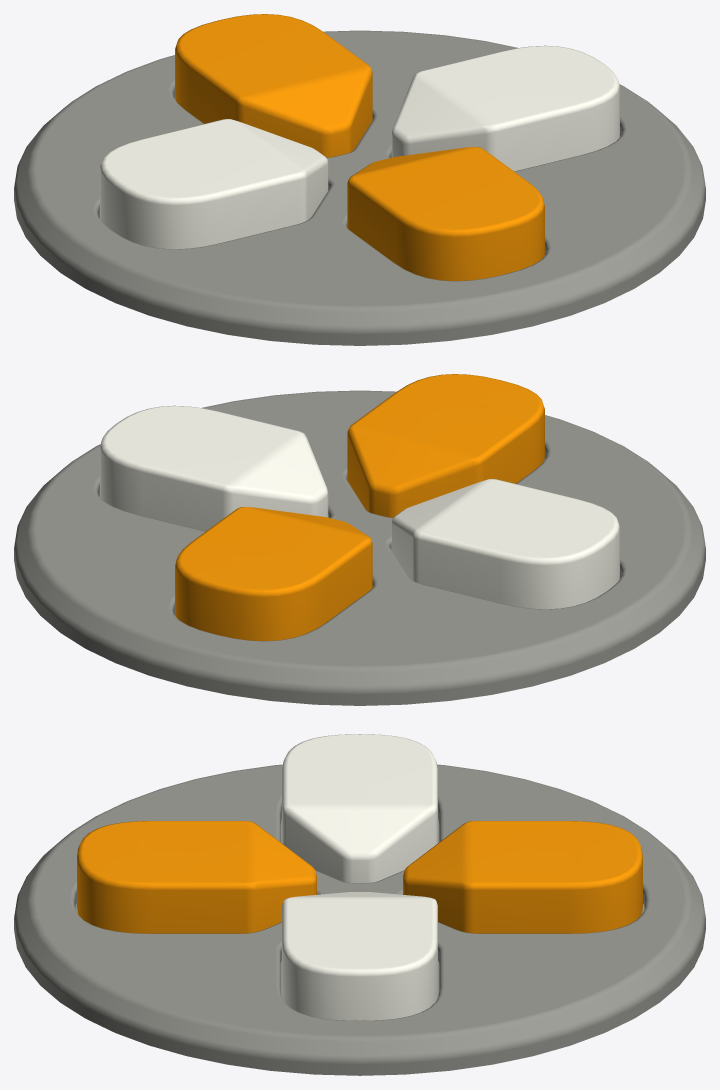
File: D Pad #1.fbx
3 views of the same model, one above another, from view 1: azimuth 30°, elevation 25°; view 2: azimuth 150°, elevation 25°; view 3: azimuth 270°, elevation 25° (orthographic).
Visible parts, largest first — view 1: kitbash_83; view 2: kitbash_83; view 3: kitbash_83.
Part boxes in pixels (bbox=[...]): kitbash_83: bbox=[14, 14, 705, 345]; kitbash_83: bbox=[14, 374, 705, 705]; kitbash_83: bbox=[14, 734, 705, 1075].
Size of the model in its own units: 7.31 by 0.9083 by 7.31.
